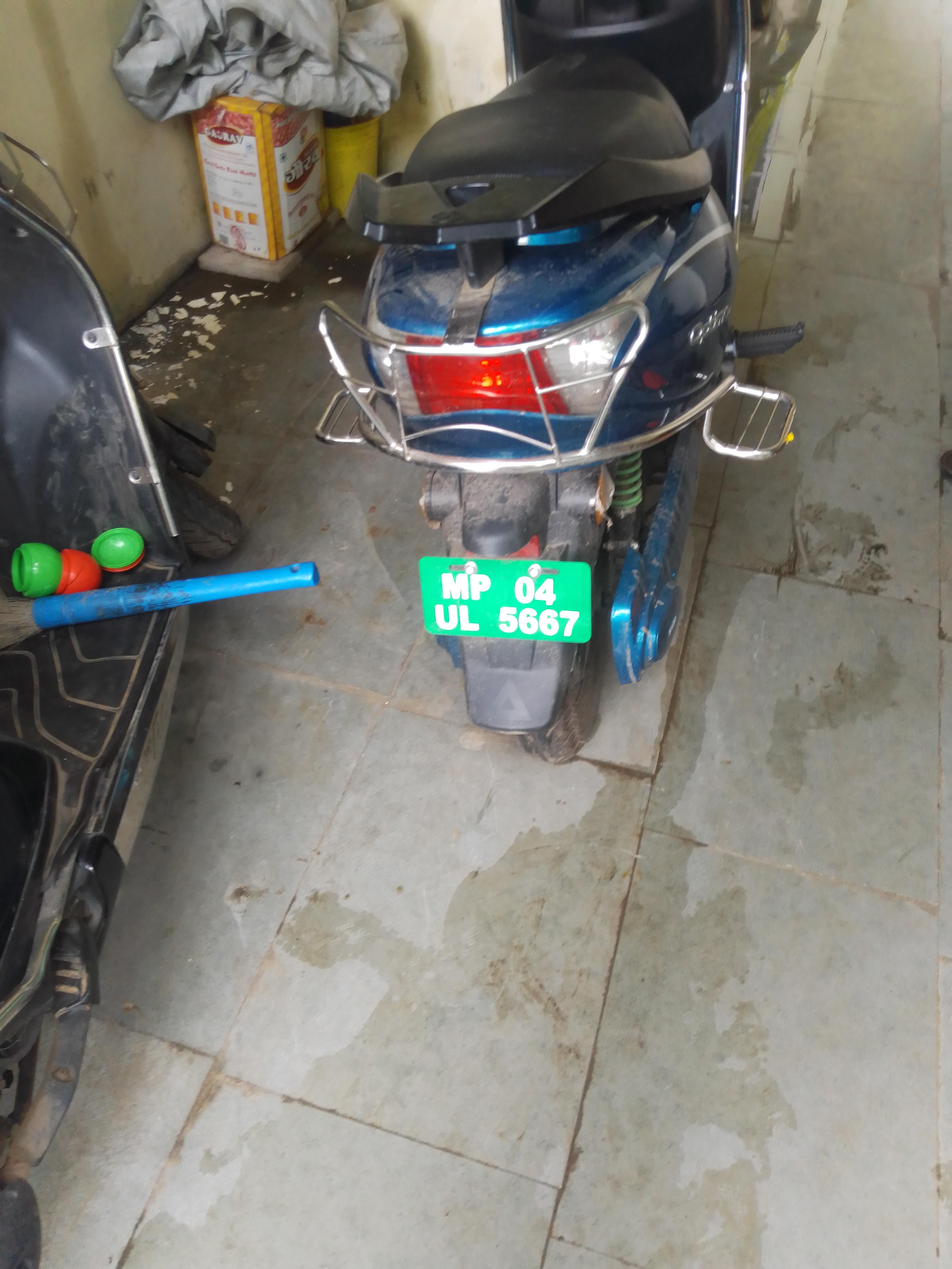green license plate: (420, 556, 599, 639)
